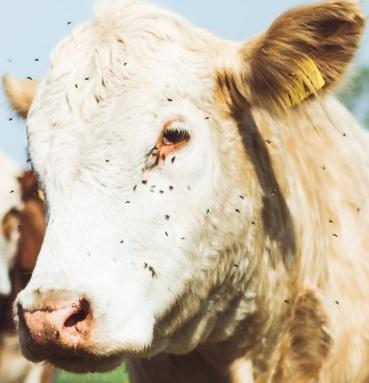muzzles: (9, 288, 137, 375)
